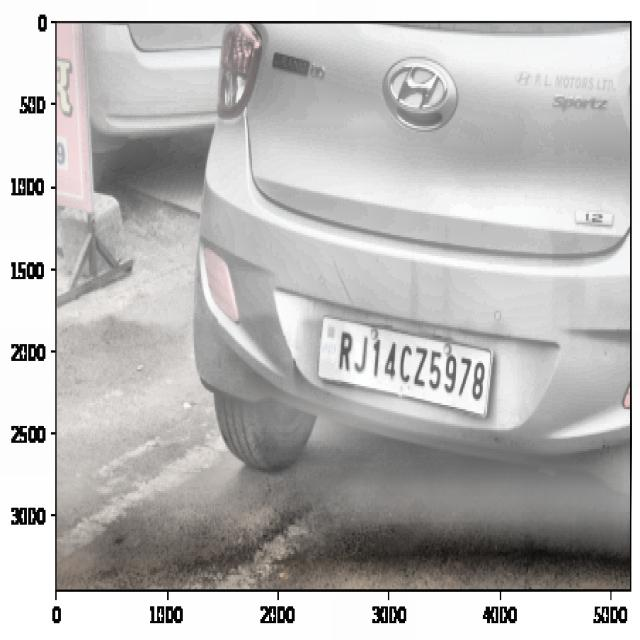license_plate: (328, 326, 490, 408)
